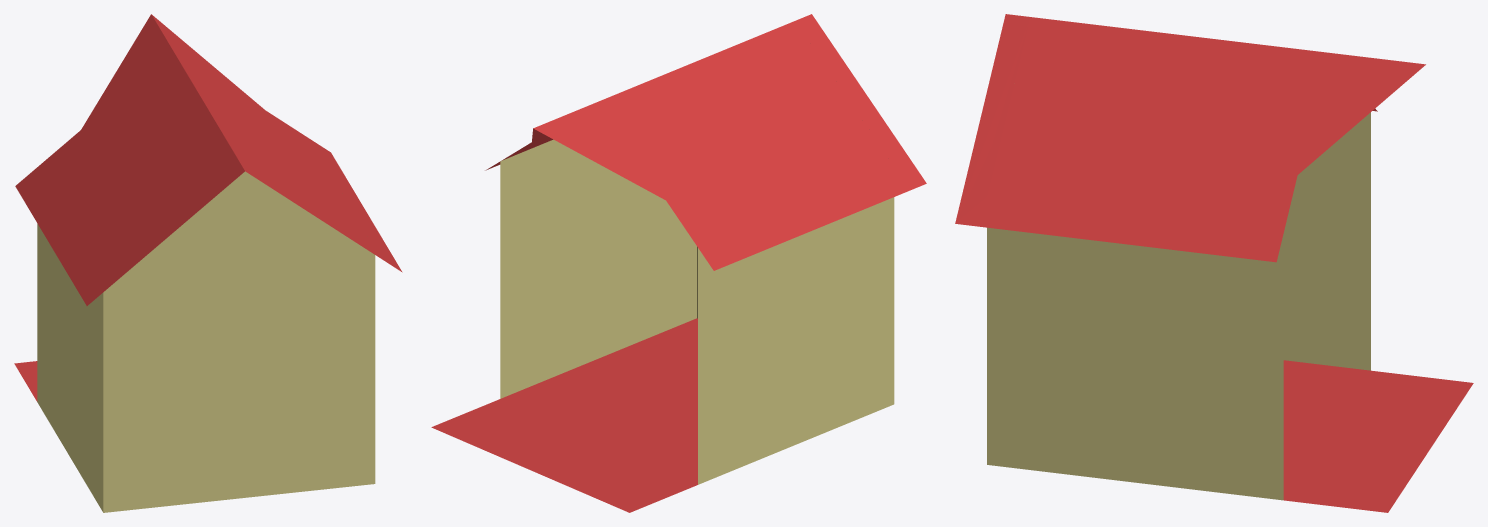
3 views of the same model, side by side, from view 1: azimuth 30°, elevation 25°; view 2: azimuth 150°, elevation 25°; view 3: azimuth 270°, elevation 25° (orthographic). The views are drawn at different scales.
Bounding box in the file's own units: 13.16 × 15.07 × 12.28.
